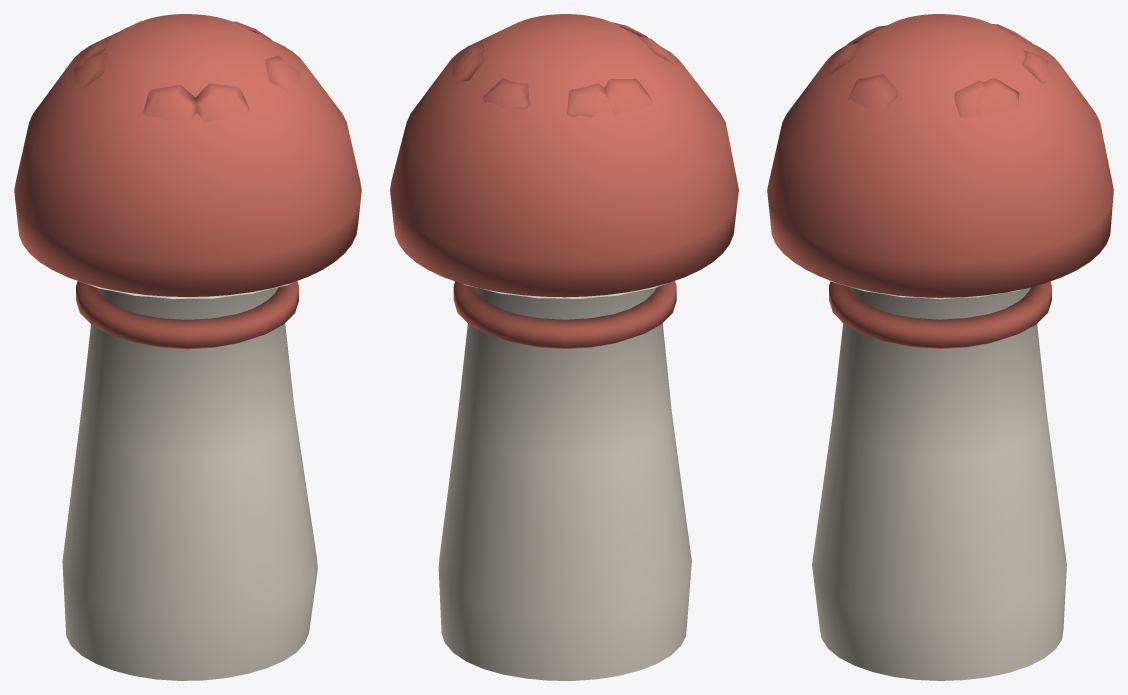
The model's file is food_matsutake.glb.
3 renders of one model, left to right at view 1: azimuth 30°, elevation 25°; view 2: azimuth 150°, elevation 25°; view 3: azimuth 270°, elevation 25°, orthographic.
Visible parts, largest first — view 1: PART; view 2: PART; view 3: PART.
Boxes of the visible parts, x1,y1,x2,y2 form: PART: [14, 14, 361, 680]; PART: [390, 14, 738, 680]; PART: [767, 14, 1113, 680].
Bounding box in the file's own units: 0.1012 × 0.1907 × 0.1005.
